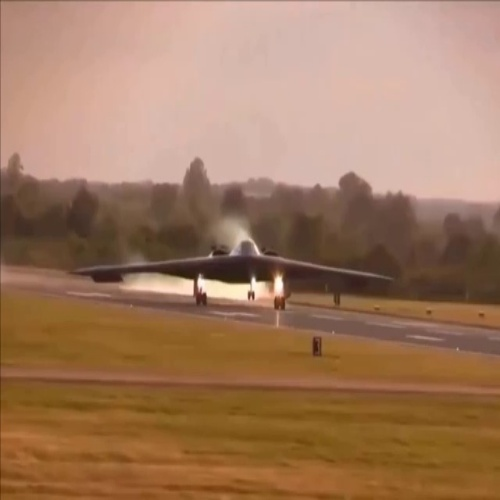uav: (68, 232, 395, 311)
